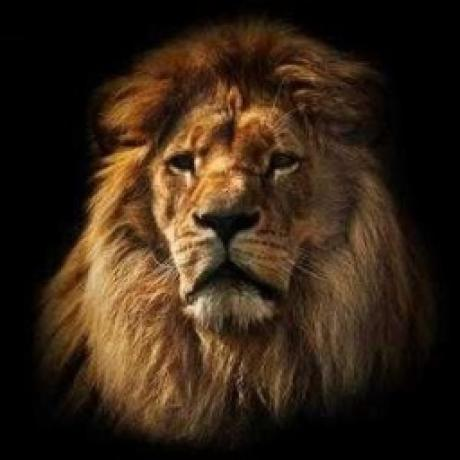Lion: (29, 9, 445, 451)
